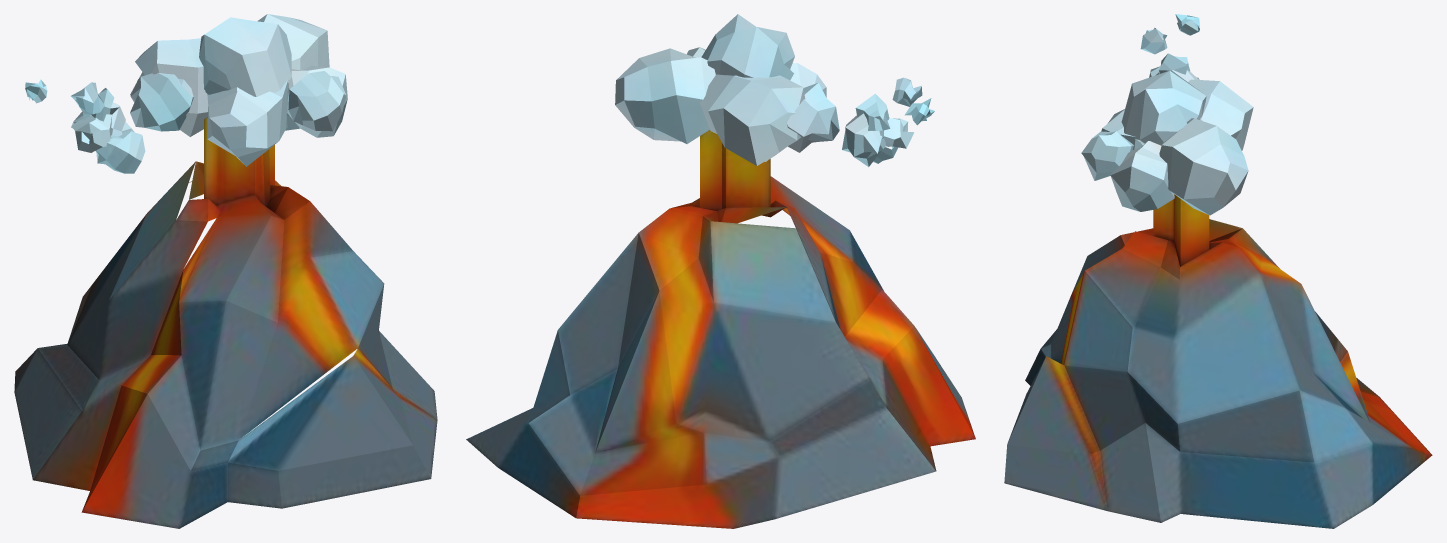
File: volcano.glb
3 views of the same model, side by side, from view 1: azimuth 30°, elevation 25°; view 2: azimuth 150°, elevation 25°; view 3: azimuth 270°, elevation 25° (orthographic). The views are drawn at different scales.
Parts seen in each view (by area): view 1: Volcano_mesh; view 2: Volcano_mesh; view 3: Volcano_mesh.
Part boxes in pixels (x1,y1,x2,y2): Volcano_mesh: [14, 14, 437, 528]; Volcano_mesh: [466, 14, 975, 528]; Volcano_mesh: [1004, 14, 1432, 528].
Size of the model in its own units: 14.9 by 14.66 by 15.5.
1 material, 1 textured.
